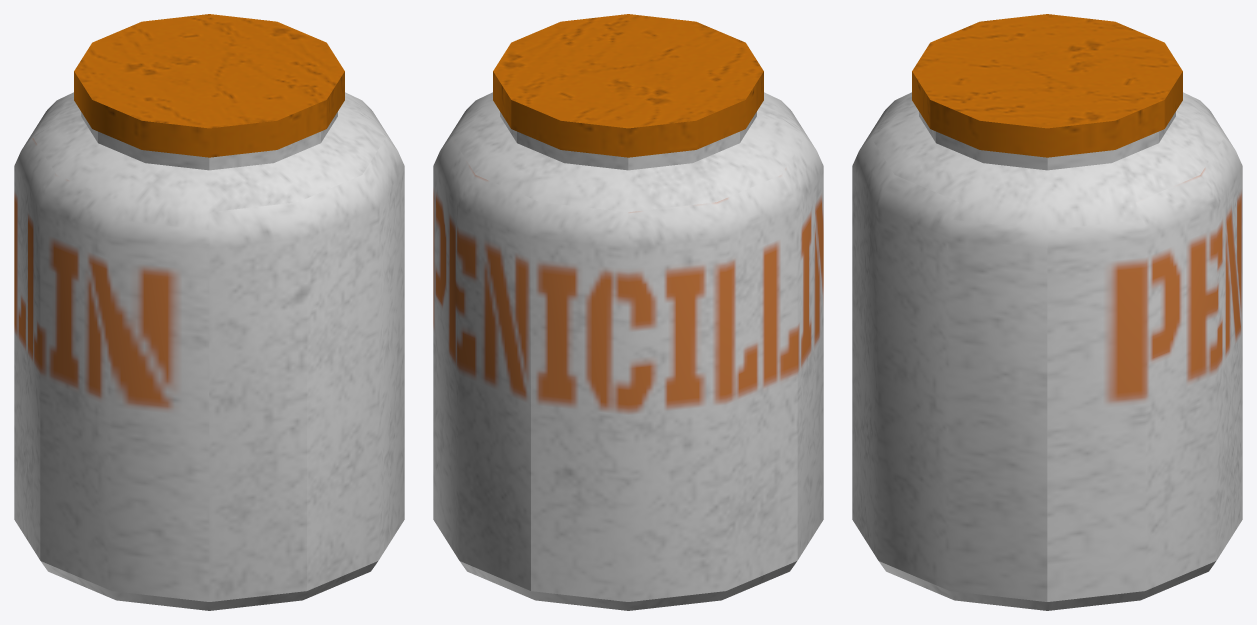
Rendered from peniciline.fbx.
3 views of the same model, side by side, from view 1: azimuth 30°, elevation 25°; view 2: azimuth 150°, elevation 25°; view 3: azimuth 270°, elevation 25° (orthographic).
Visible parts, largest first — view 1: peniciline; view 2: peniciline; view 3: peniciline.
Boxes of the visible parts, x1,y1,x2,y2 form: peniciline: (14,14,404,610); peniciline: (433,14,823,610); peniciline: (852,14,1242,610).
Bounding box in the file's own units: 200 × 261 × 200.
Materials: 2 (2 with a texture image).
